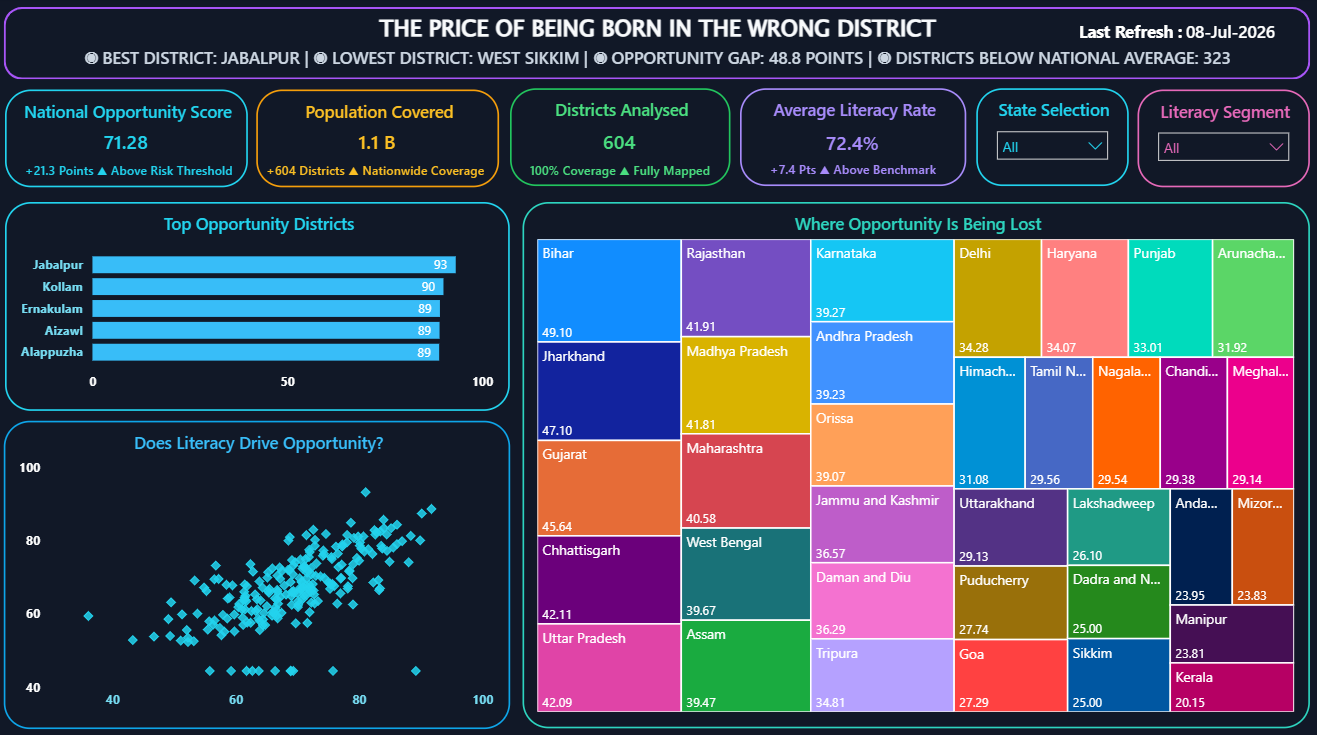

The dashboard page shown, as its layout file describes it:
{"tool":"powerbi","page":{"name":"Page 1","canvas":[1280,720],"ordinal":0},"visuals":[{"type":"textbox","box":[9.6,9.6,1259.7,46.7],"z":0},{"type":"cardVisual","fields":{"Data":["Page 1.Page 1 Executive Insight"]},"box":[8.2,9.6,1261.1,96.1],"z":1000},{"type":"shape","box":[8.2,9.6,1261.1,70],"z":2000},{"type":"cardVisual","title":"National Opportunity Score","fields":{"Data":["Measure.Opportunity Score"]},"box":[9.7,89.3,234,94.1],"z":3000},{"type":"cardVisual","title":"Population Covered","fields":{"Data":["Measure.Population Covered"]},"box":[252.5,89.2,234.6,94.7],"z":4000},{"type":"cardVisual","title":"Districts Analysed","fields":{"Data":["Measure.Total Districts"]},"box":[496.7,87.8,212.7,94.7],"z":5000},{"type":"cardVisual","title":"Average Literacy Rate","fields":{"Data":["Measure.Avg Literacy"]},"box":[719,87.8,218.2,94.7],"z":6000},{"type":"slicer","title":"State Selection","fields":{"Values":["Dim_District_Profile.State"]},"box":[946.8,87.8,146.8,94.7],"z":7000},{"type":"slicer","title":"Literacy Segment","fields":{"Values":["Dim_District_Profile.Literacy Band"]},"box":[1103.3,89.2,166,94.7],"z":8000},{"type":"clusteredBarChart","title":"Top Opportunity Districts","fields":{"Category":["Dim_District_Profile.District"],"Y":["Measure.Opportunity Score"]},"box":[9.6,197.6,487.1,201.7],"z":9000},{"type":"scatterChart","title":"Does Literacy Drive Opportunity?","fields":{"X":["Dim_District_Profile.Literacy"],"Y":["Measure.Opportunity Score"]},"box":[8.2,408.9,488.5,297.8],"z":10000},{"type":"treemap","title":"Where Opportunity Is Being Lost","fields":{"Group":["Dim_District_Profile.State"],"Values":["Measure.Development Risk Score"]},"box":[509.1,197.6,760.2,507.7],"z":11000},{"type":"cardVisual","fields":{"Data":["Page 1.Opportunity Footer"]},"box":[0,102.9,274.4,127.6],"z":12000},{"type":"cardVisual","fields":{"Data":["Page 1.Population Footer"]},"box":[233.3,122.1,285.4,87.8],"z":13000},{"type":"cardVisual","fields":{"Data":["Page 1.Districts Footer"]},"box":[487.1,137.2,322.5,57.6],"z":14000},{"type":"cardVisual","fields":{"Data":["Page 1.Literacy Footer"]},"box":[719,137.2,299.1,56.3],"z":15000},{"type":"cardVisual","fields":{"Data":["Page 1.Last Refresh"]},"box":[1115.6,4.1,153.7,57.6],"z":16000},{"type":"textbox","box":[1041.5,16.5,119.4,41.2],"z":17000}]}

Visuals, with their boxes in screenshot pixels (x1, y1, x2, y2), scaled from the page's 1280x720 canvas onto the 1317x735 screenshot:
textbox: {"left": 10, "top": 10, "right": 1306, "bottom": 57}
cardVisual - Page 1.Page 1 Executive Insight: {"left": 8, "top": 10, "right": 1306, "bottom": 108}
shape: {"left": 8, "top": 10, "right": 1306, "bottom": 81}
"National Opportunity Score" cardVisual: {"left": 10, "top": 91, "right": 251, "bottom": 187}
"Population Covered" cardVisual: {"left": 260, "top": 91, "right": 501, "bottom": 188}
"Districts Analysed" cardVisual: {"left": 511, "top": 90, "right": 730, "bottom": 186}
"Average Literacy Rate" cardVisual: {"left": 740, "top": 90, "right": 964, "bottom": 186}
"State Selection" slicer: {"left": 974, "top": 90, "right": 1125, "bottom": 186}
"Literacy Segment" slicer: {"left": 1135, "top": 91, "right": 1306, "bottom": 188}
"Top Opportunity Districts" clusteredBarChart: {"left": 10, "top": 202, "right": 511, "bottom": 408}
"Does Literacy Drive Opportunity?" scatterChart: {"left": 8, "top": 417, "right": 511, "bottom": 721}
"Where Opportunity Is Being Lost" treemap: {"left": 524, "top": 202, "right": 1306, "bottom": 720}
cardVisual - Page 1.Opportunity Footer: {"left": 0, "top": 105, "right": 282, "bottom": 235}
cardVisual - Page 1.Population Footer: {"left": 240, "top": 125, "right": 534, "bottom": 214}
cardVisual - Page 1.Districts Footer: {"left": 501, "top": 140, "right": 833, "bottom": 199}
cardVisual - Page 1.Literacy Footer: {"left": 740, "top": 140, "right": 1048, "bottom": 198}
cardVisual - Page 1.Last Refresh: {"left": 1148, "top": 4, "right": 1306, "bottom": 63}
textbox: {"left": 1072, "top": 17, "right": 1194, "bottom": 59}
